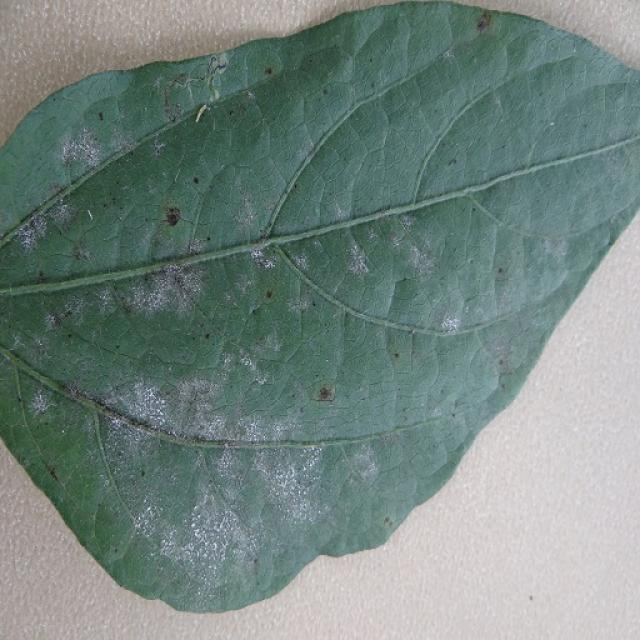Blackgram: (0, 2, 639, 610)
Powdery_Mildew: (13, 115, 500, 456), (104, 415, 337, 596), (32, 225, 240, 369), (110, 360, 315, 445), (160, 233, 315, 337), (162, 470, 257, 575), (297, 208, 430, 283), (247, 443, 322, 516), (119, 263, 211, 321), (99, 384, 175, 438), (15, 192, 81, 254), (156, 374, 229, 430), (117, 379, 187, 434), (128, 480, 180, 550), (61, 129, 103, 169), (403, 234, 439, 279), (54, 291, 95, 327), (345, 441, 378, 482), (8, 328, 42, 360), (253, 327, 286, 358), (234, 197, 262, 233), (48, 200, 79, 231), (17, 216, 44, 250), (136, 500, 163, 533), (345, 242, 371, 276), (493, 338, 514, 375), (286, 288, 314, 315), (29, 390, 52, 416), (248, 361, 271, 386), (540, 236, 566, 258), (163, 97, 183, 123), (237, 351, 260, 373), (255, 250, 277, 270), (291, 251, 311, 272), (441, 316, 460, 334), (42, 311, 58, 331), (399, 214, 416, 230), (153, 136, 167, 155), (251, 247, 267, 262), (441, 49, 456, 62), (245, 90, 255, 101), (549, 122, 555, 127)
